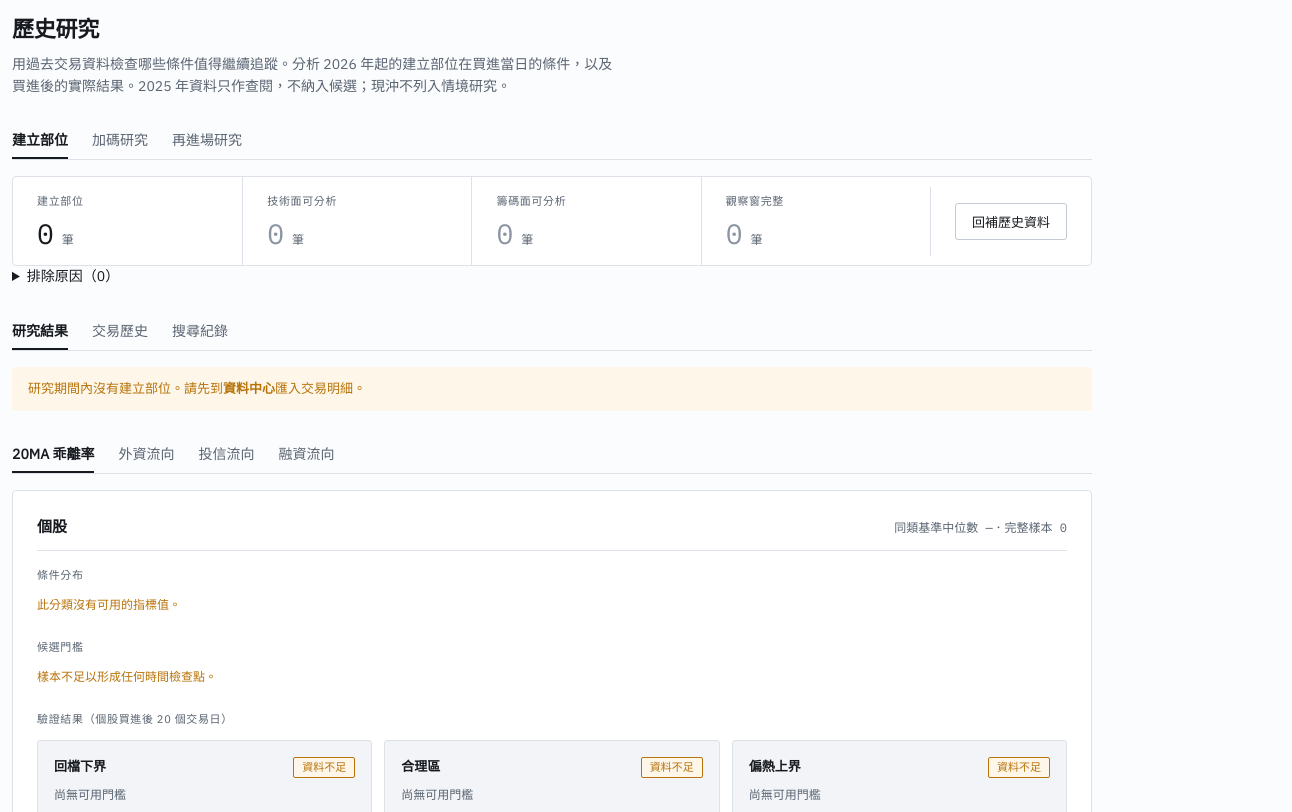
Test: 沒有資料時 › 切換加碼研究後顯示相對均價分頁
Click the tab "加碼研究" at (120, 144), box [92,130,148,160]
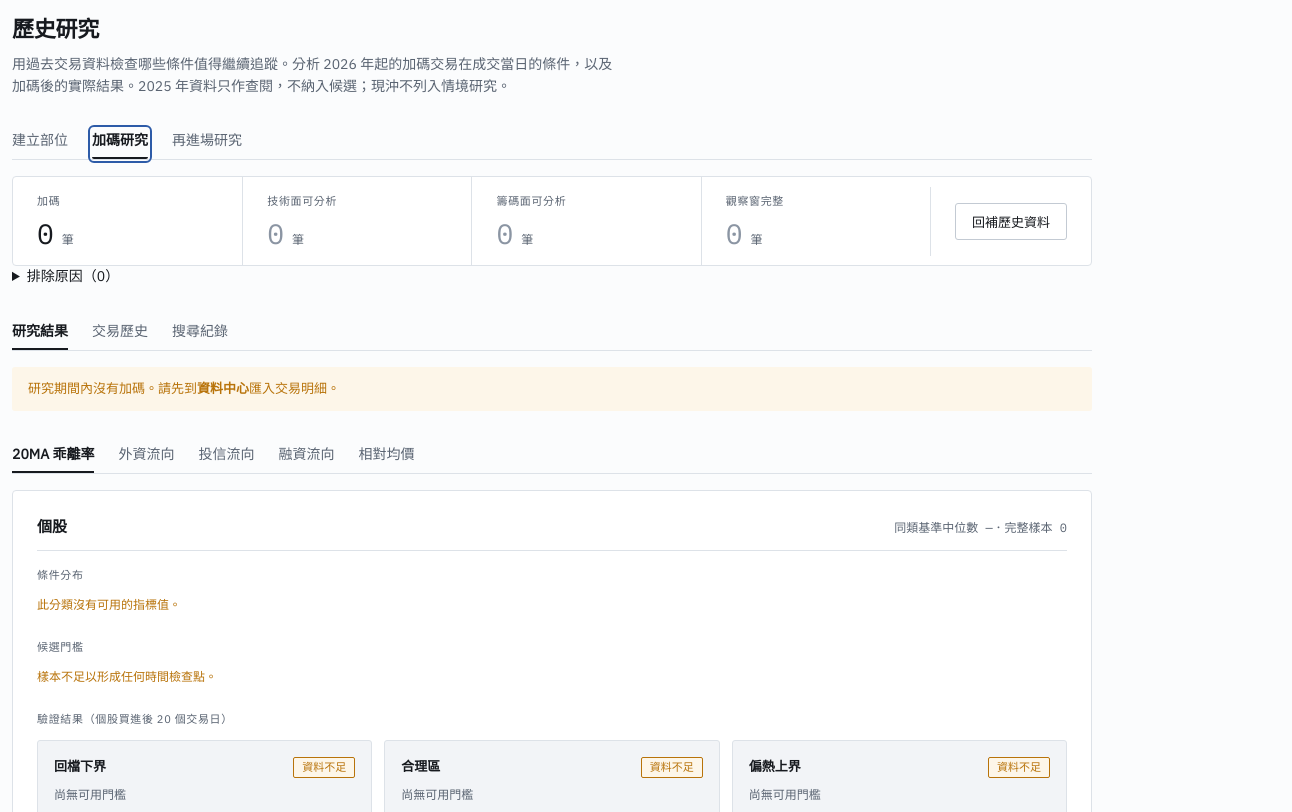
Result: the tab "相對均價" is shown at [358,443,414,473]
